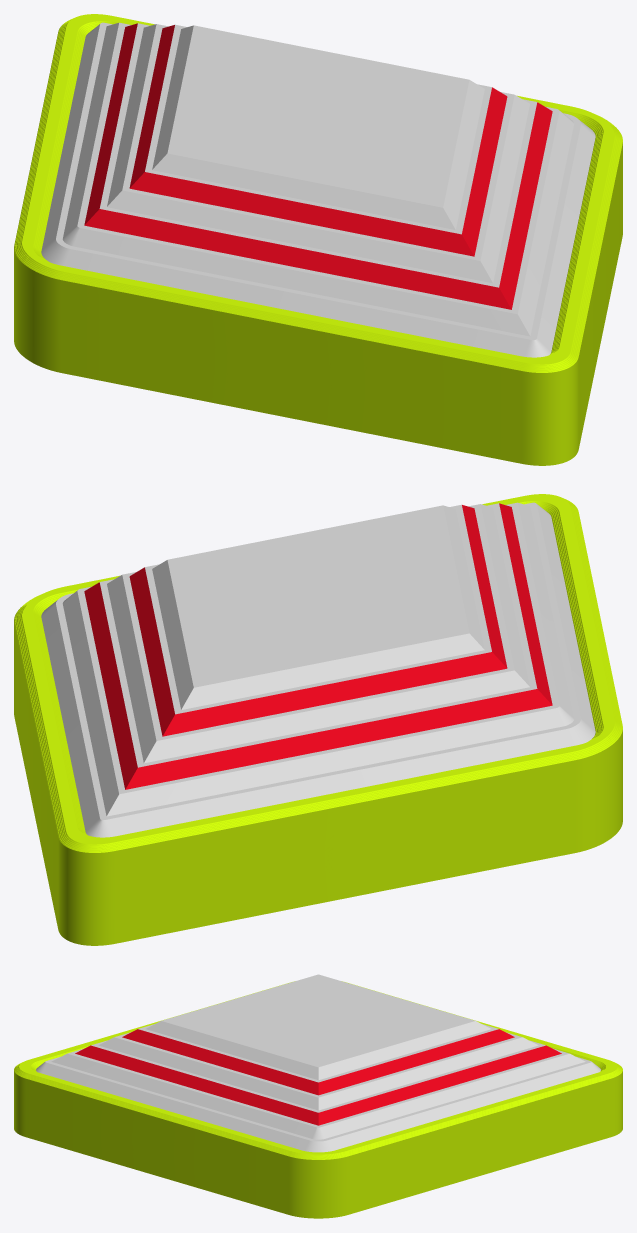
Rendered from Bumper2 .fbx.
The picture shows the model from 3 angles, top to bottom: view 1: azimuth 30°, elevation 25°; view 2: azimuth 150°, elevation 25°; view 3: azimuth 270°, elevation 25°; orthographic projection. The views are drawn at different scales.
Parts seen in each view (by area): view 1: Bumper; view 2: Bumper; view 3: Bumper.
Boxes of the visible parts, box(x1,y1,x2,y2) form: Bumper: box(14, 14, 622, 465); Bumper: box(14, 494, 622, 945); Bumper: box(14, 974, 622, 1218).
Size of the model in its own units: 1163 by 324 by 1663.
